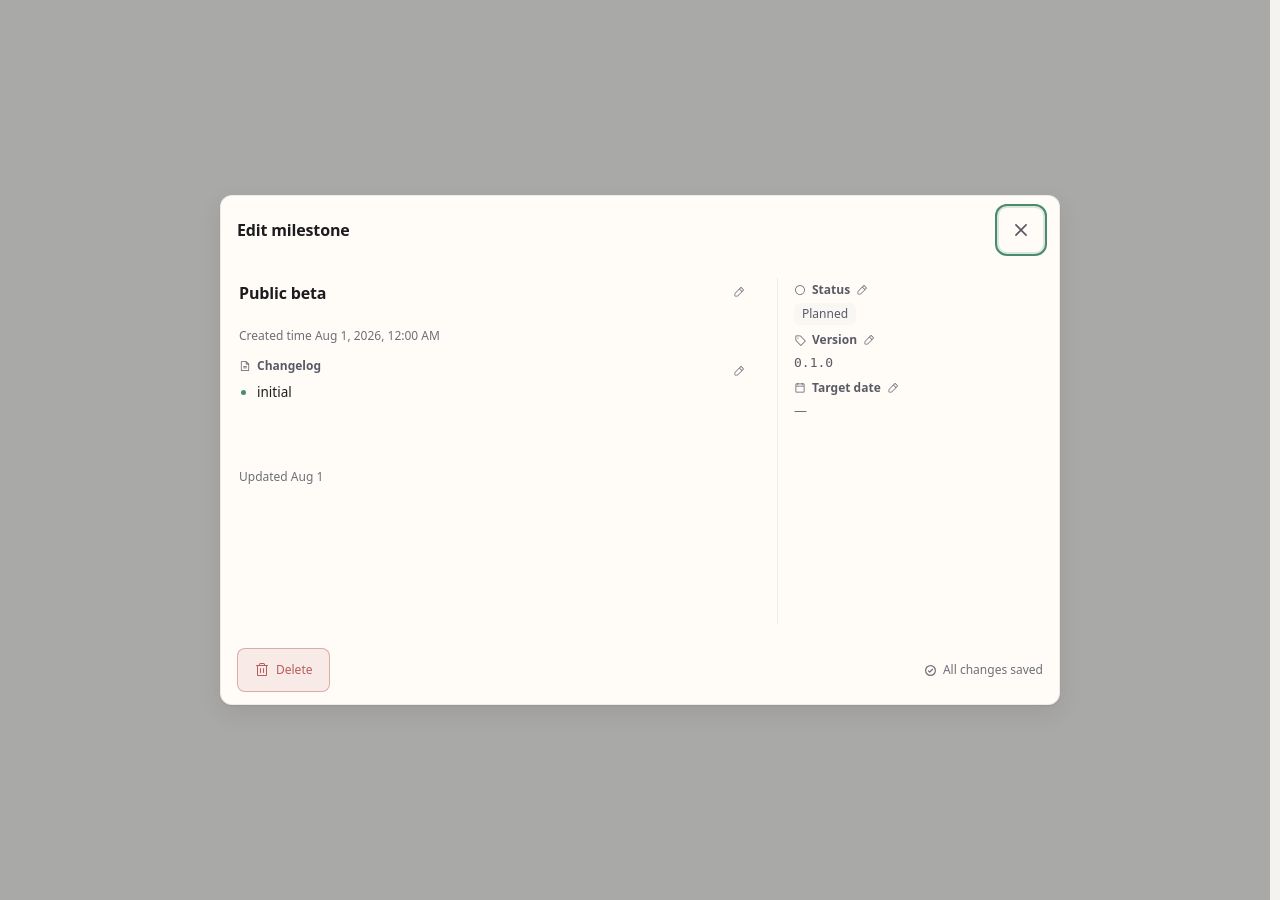
Test: MilestoneModal › opens the version popup panel from the sidebar activator
Click the button "0.1.0": click(918, 363) x1=794 y1=353 x2=1041 y2=372
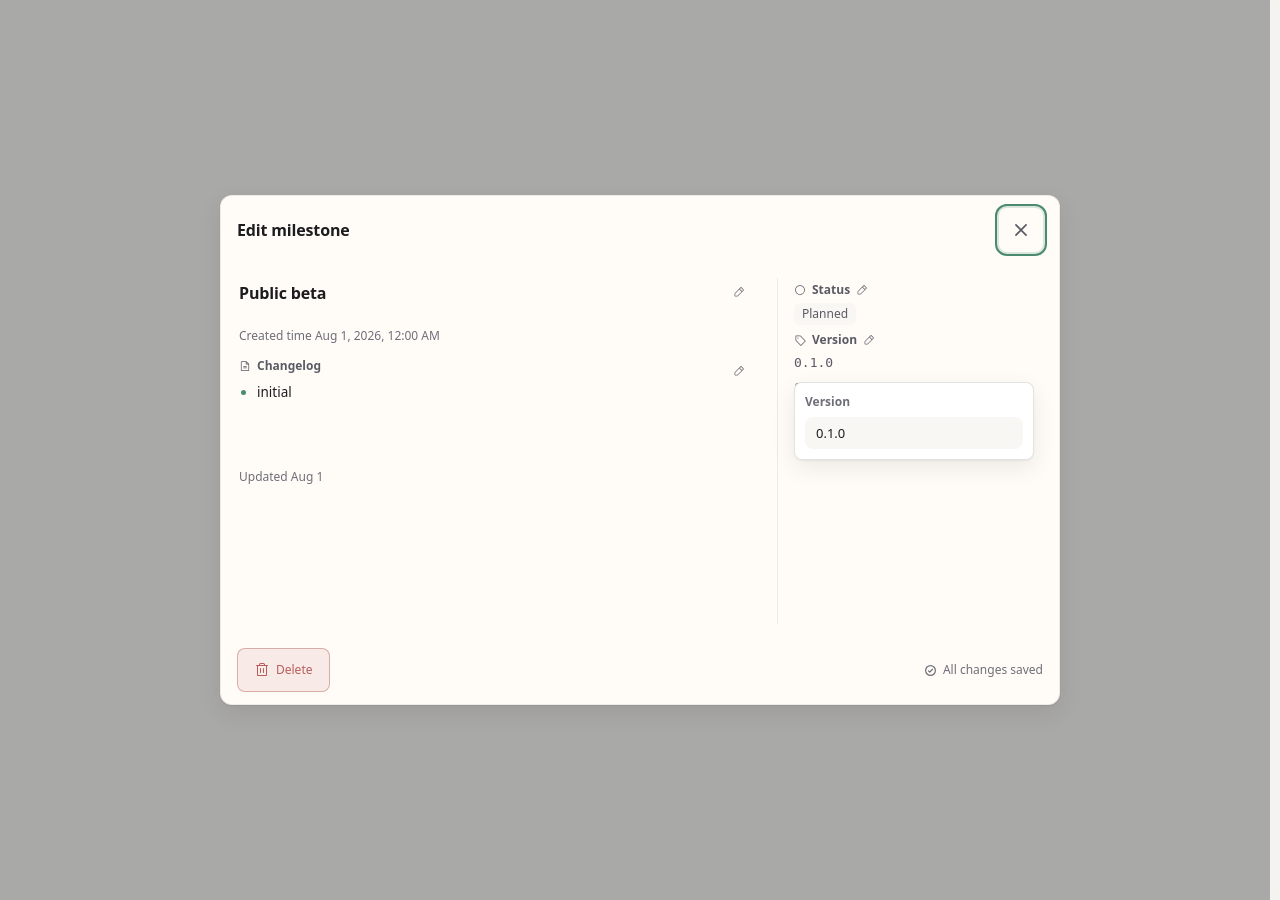
Check: the dialog "Version" is shown, box x1=794 y1=382 x2=1034 y2=460
Check: the field named "Version" is shown, box x1=805 y1=416 x2=1023 y2=449
